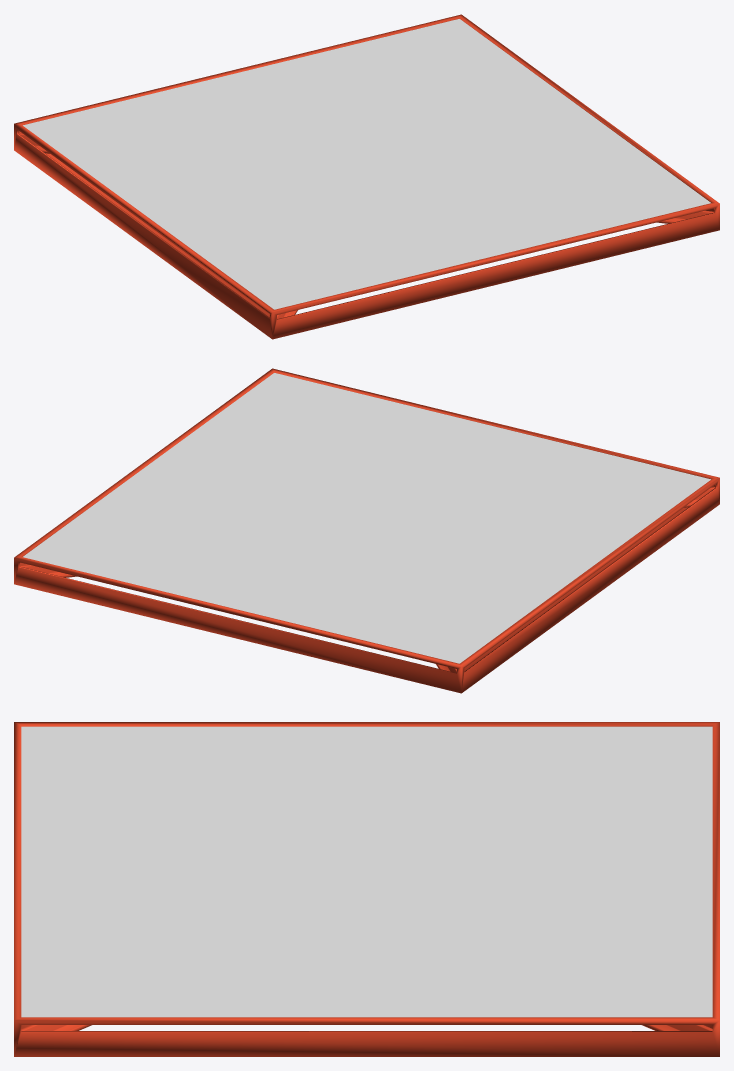
File: SM_ServerGrate.fbx
The picture shows the model from 3 angles, top to bottom: view 1: azimuth 30°, elevation 25°; view 2: azimuth 150°, elevation 25°; view 3: azimuth 270°, elevation 25°; orthographic projection. The views are drawn at different scales.
Visible parts, largest first — view 1: gratefinal; view 2: gratefinal; view 3: gratefinal.
Boxes of the visible parts, x1,y1,x2,y2 form: gratefinal: [14, 14, 719, 339]; gratefinal: [14, 368, 719, 693]; gratefinal: [14, 722, 719, 1056].
Size of the model in its own units: 183 by 11.18 by 183.
